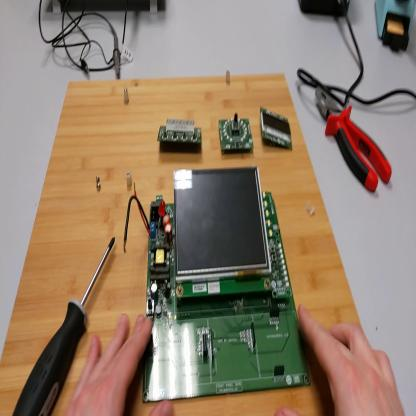hand: (274, 311, 404, 416), (62, 310, 175, 416)
low voltage board: (123, 170, 310, 410)
oscilloscope probe tip: (111, 26, 123, 78)
pliers: (315, 84, 392, 192)
screwdriver-: (14, 236, 115, 415)
welder base: (375, 1, 416, 57)
welder station: (300, 2, 349, 24)
working area: (2, 67, 362, 414)
